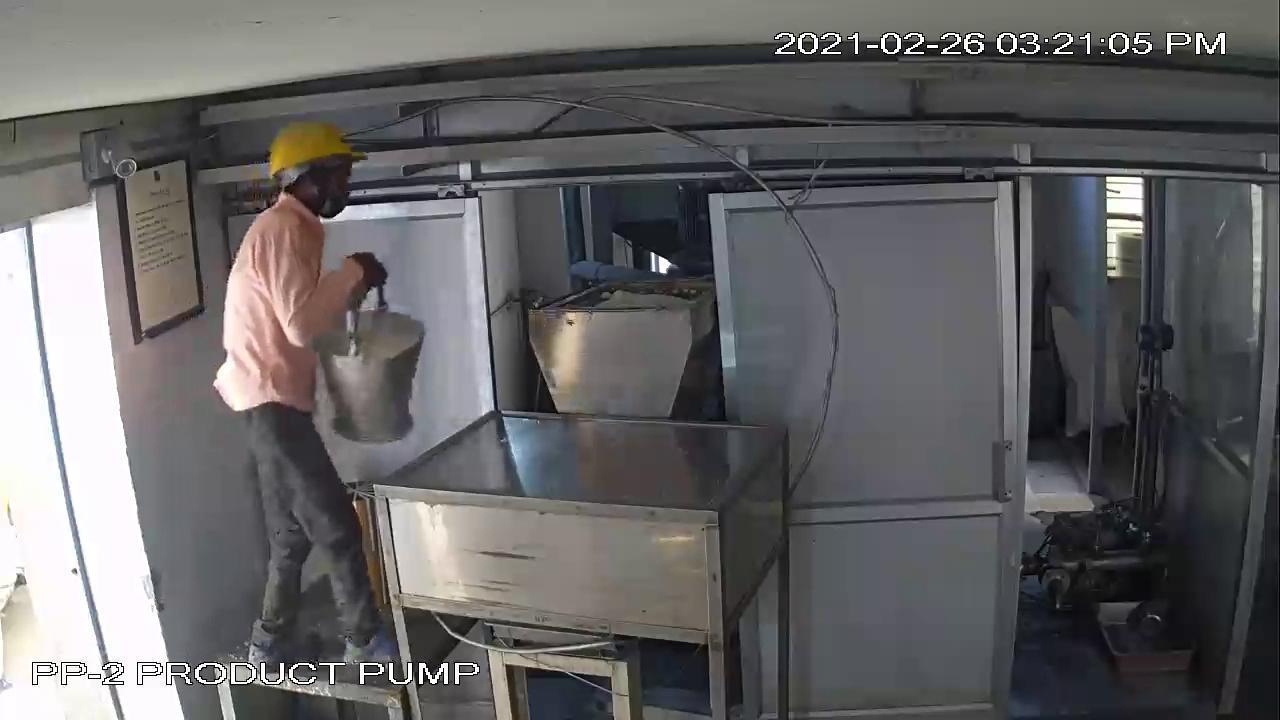helmet: (260, 109, 362, 204)
